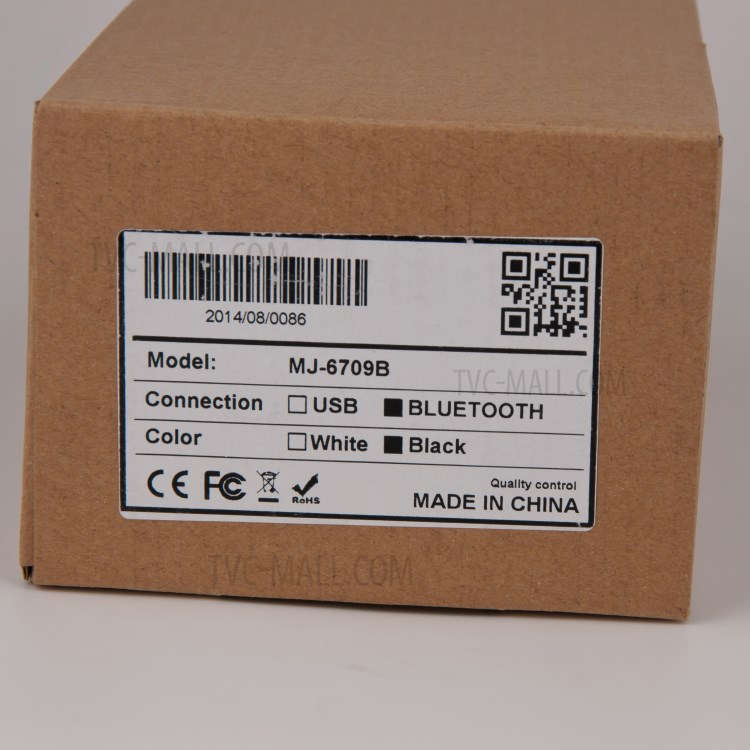barcode: (140, 241, 385, 335)
